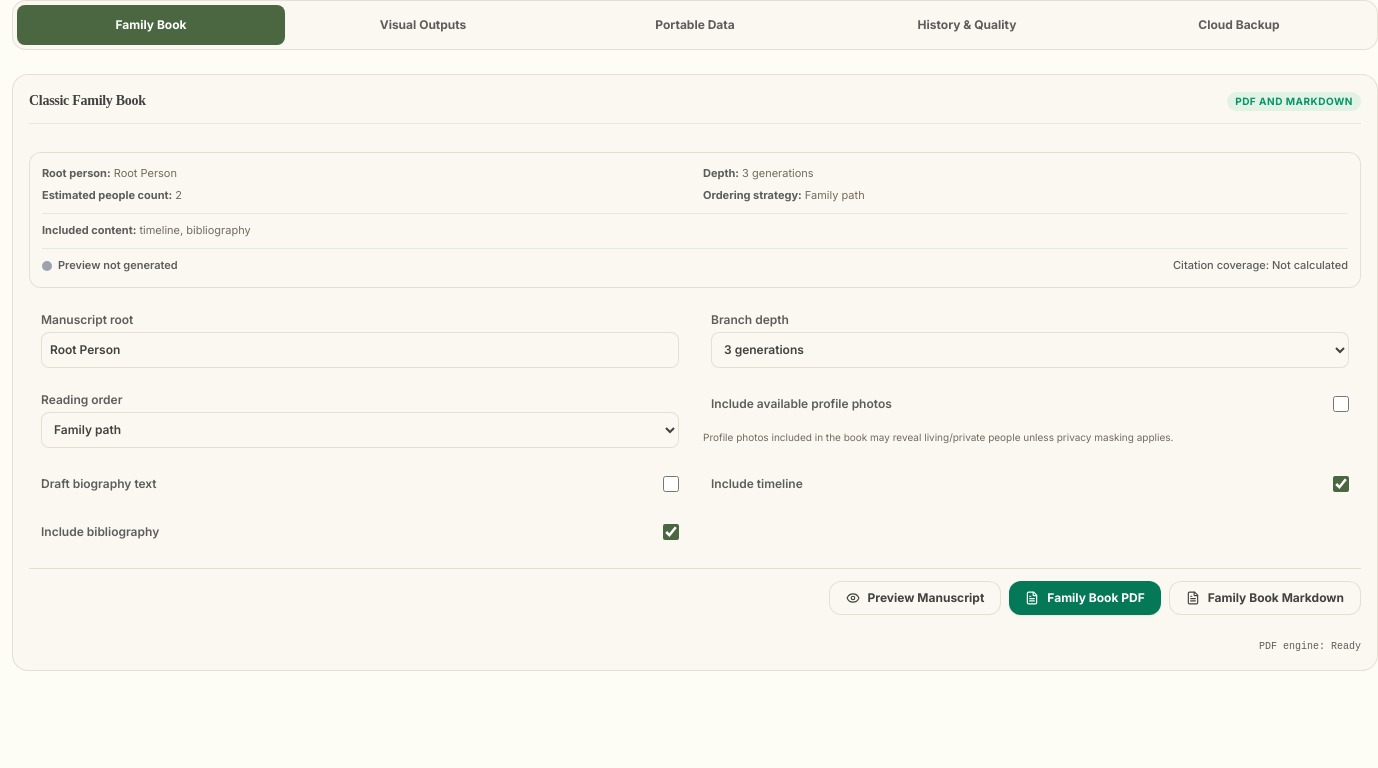
it: ExportCloudPanel manuscript preview › Publishing History and Quality Panel › renders empty history placeholder when no history exists
Click the tab "History & Quality": (967, 25) [833, 5, 1101, 45]
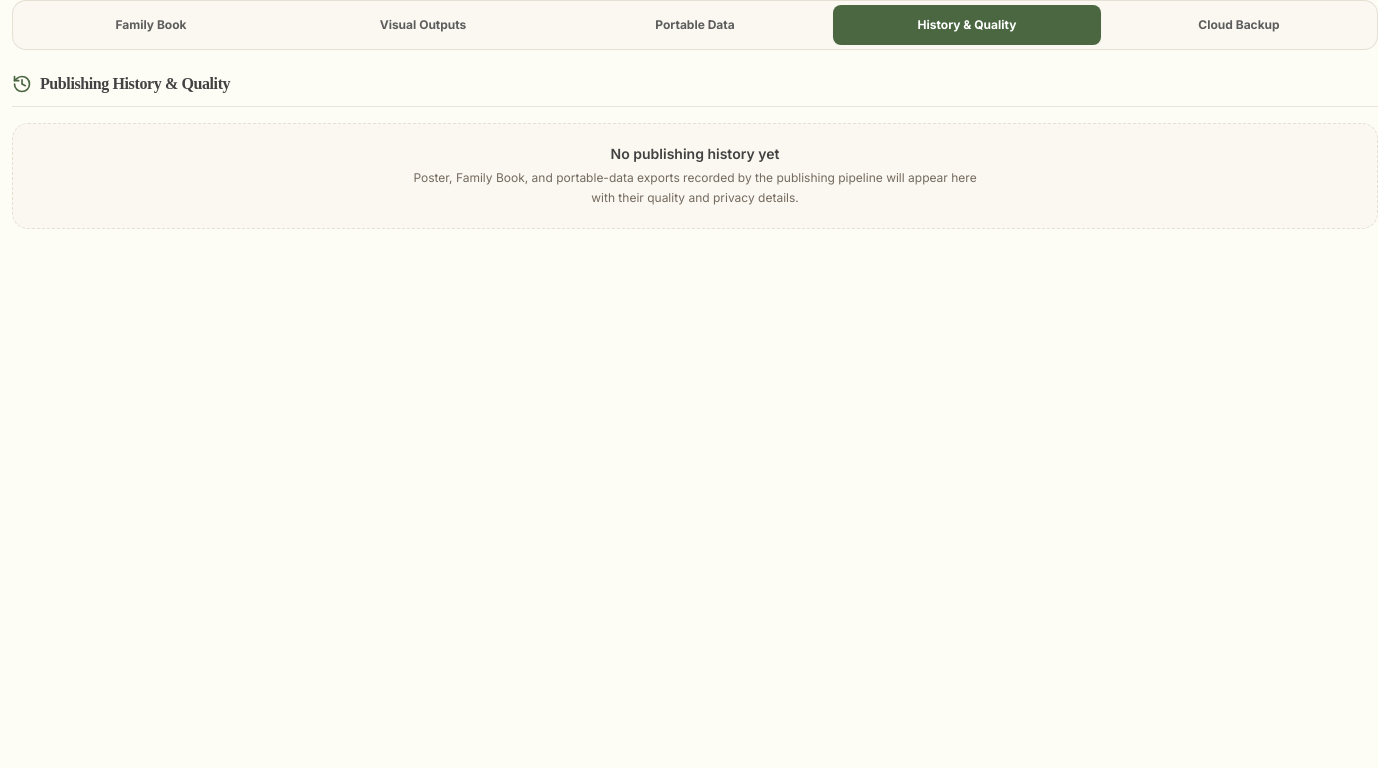
Now the text "No publishing history yet" is shown, box [611, 145, 779, 162]
Now the text "Poster, Family Book, and portable-data exports" is shown, box [413, 170, 977, 205]
